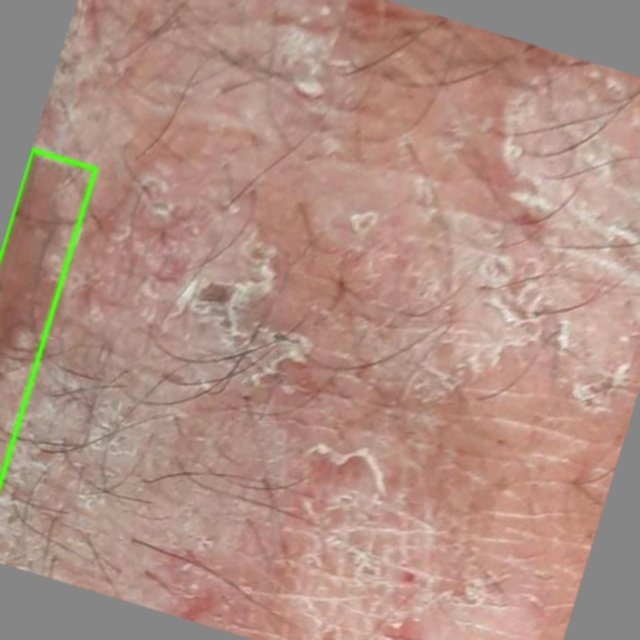Tinea Corporis: (0, 149, 95, 482)
